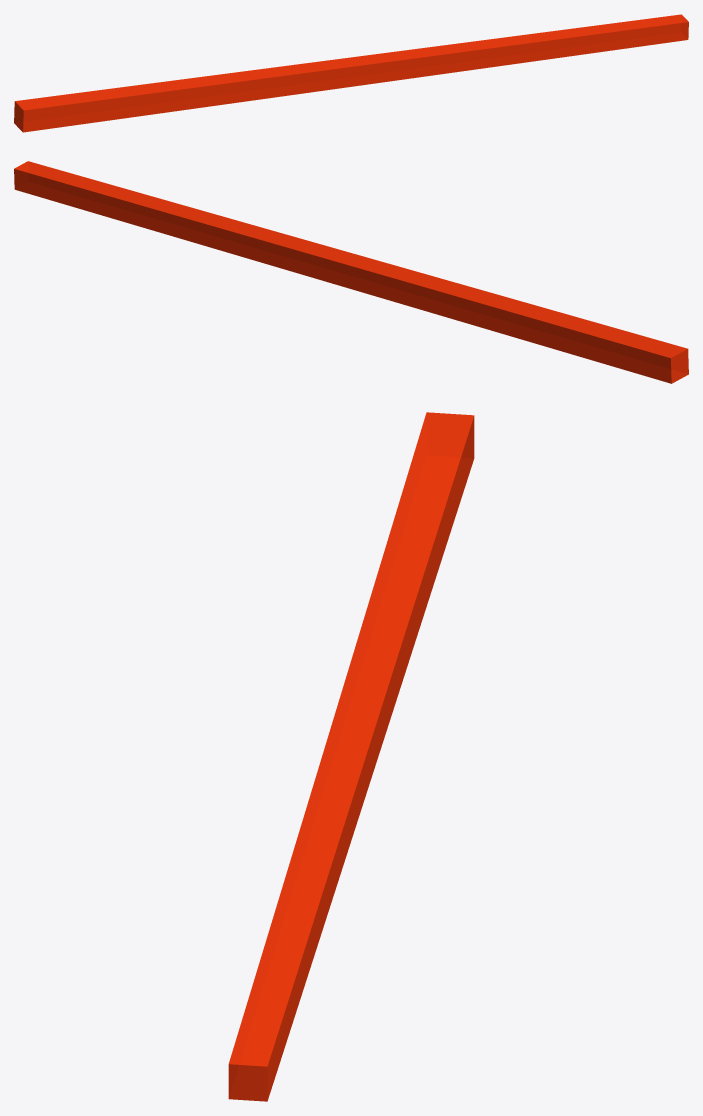
File: Event_421556567_EErechit_22.fbx
3 views of the same model, one above another, from view 1: azimuth 30°, elevation 25°; view 2: azimuth 150°, elevation 25°; view 3: azimuth 270°, elevation 25° (orthographic). The views are drawn at different scales.
Visible parts, largest first — view 1: Model; view 2: Model; view 3: Model.
Part boxes in pixels (x1,y1,x2,y2): Model: (14,14,688,132); Model: (14,161,688,383); Model: (228,412,474,1101).
Size of the model in its own units: 2.64 by 0.1768 by 0.4544.
